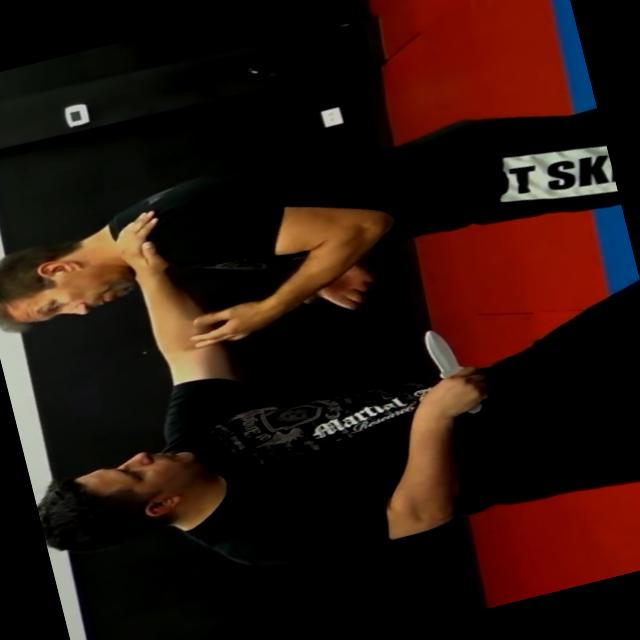knife: (412, 316, 495, 423)
